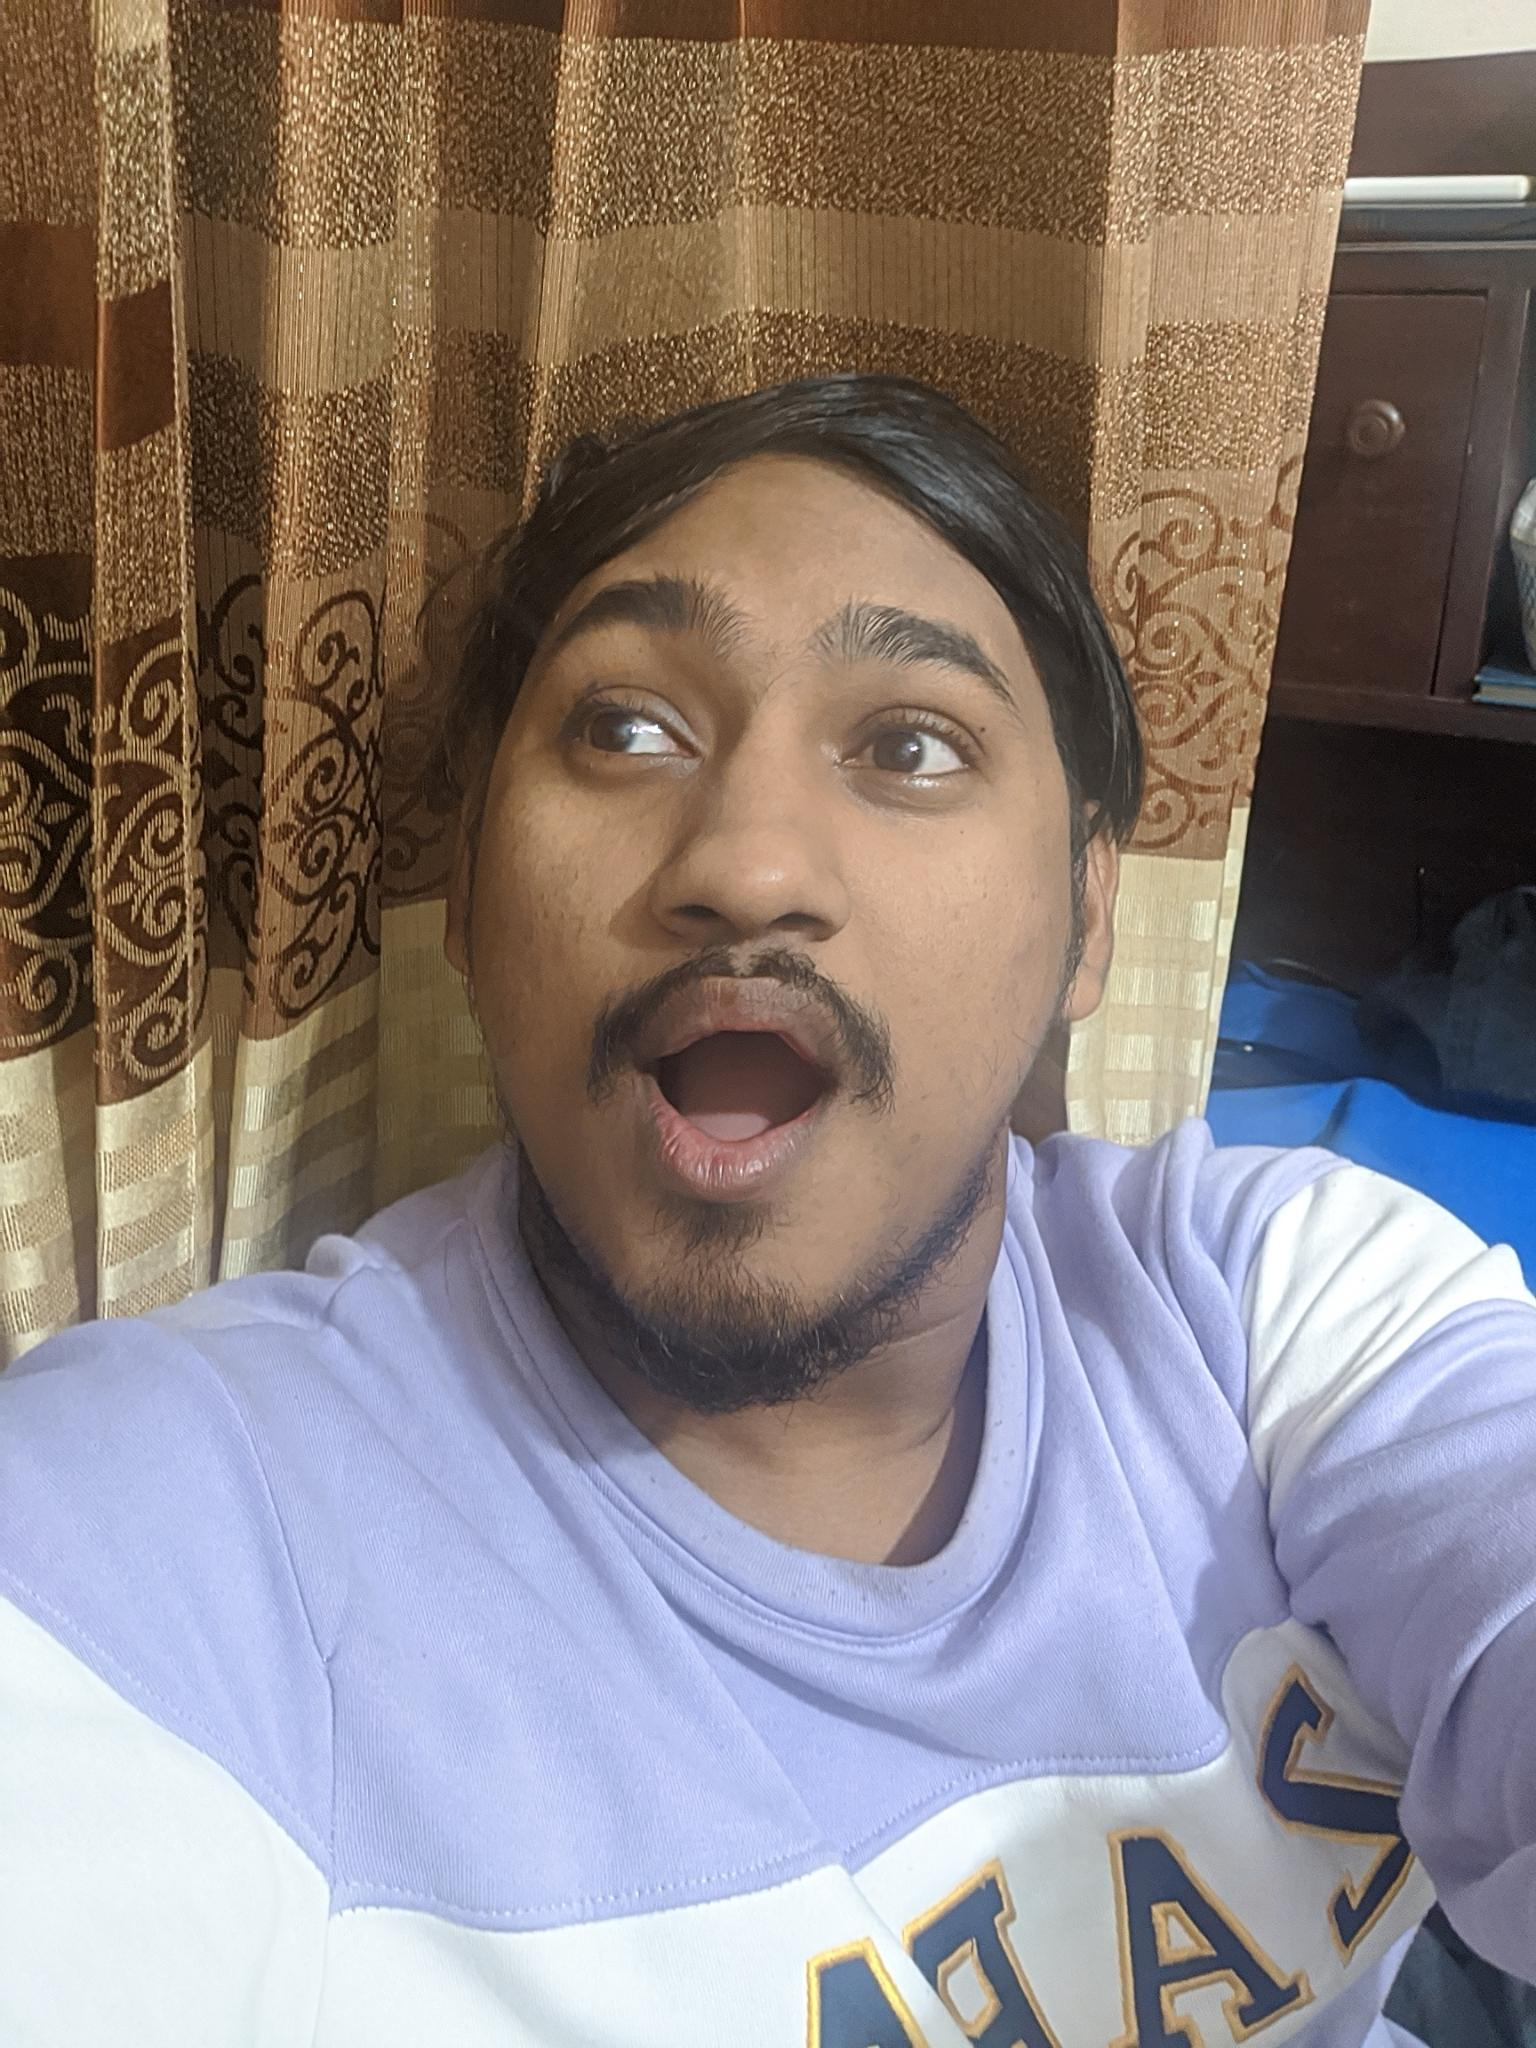Surprise: (423, 490, 1044, 1405)
